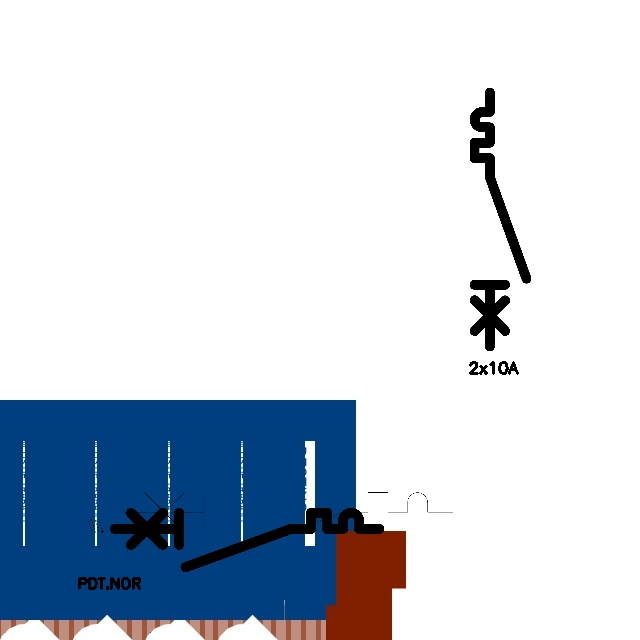interruptor_termomagnetico: (116, 484, 461, 568), (108, 506, 386, 574), (468, 86, 533, 353)
